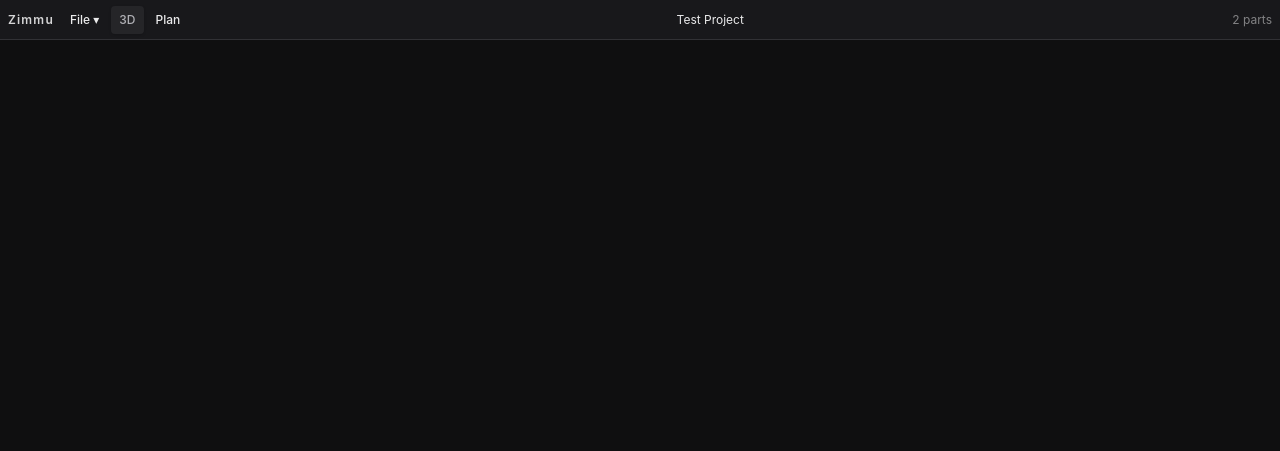
Test: FileMenu › renders an Undo button in the dropdown
The width and height of the screenshot is (1280, 451).
Click the button "File ▾": (85, 20) [62,6,107,34]
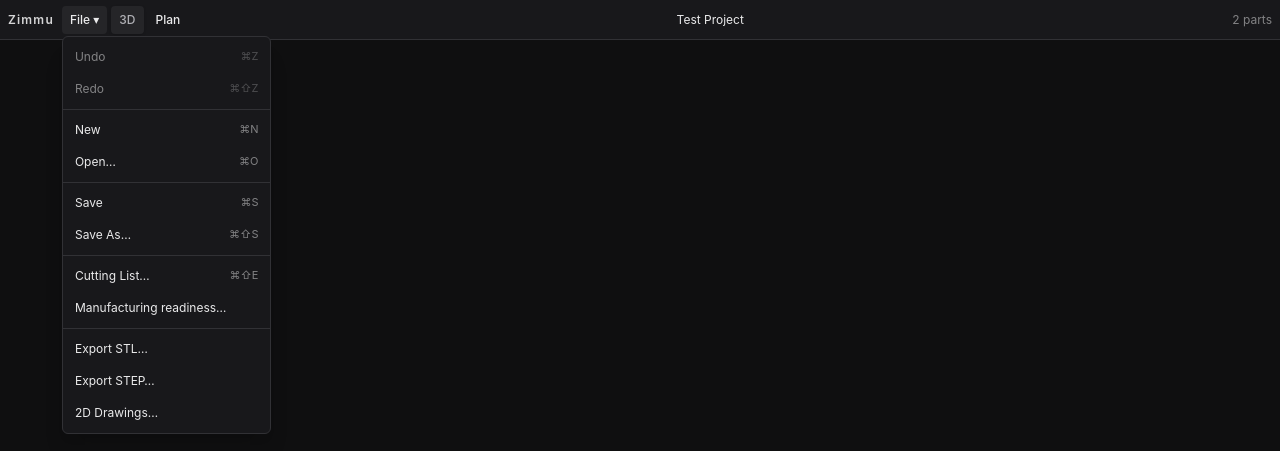
Now the button "Undo ⌘Z" is shown, box [63,40,270,72]
